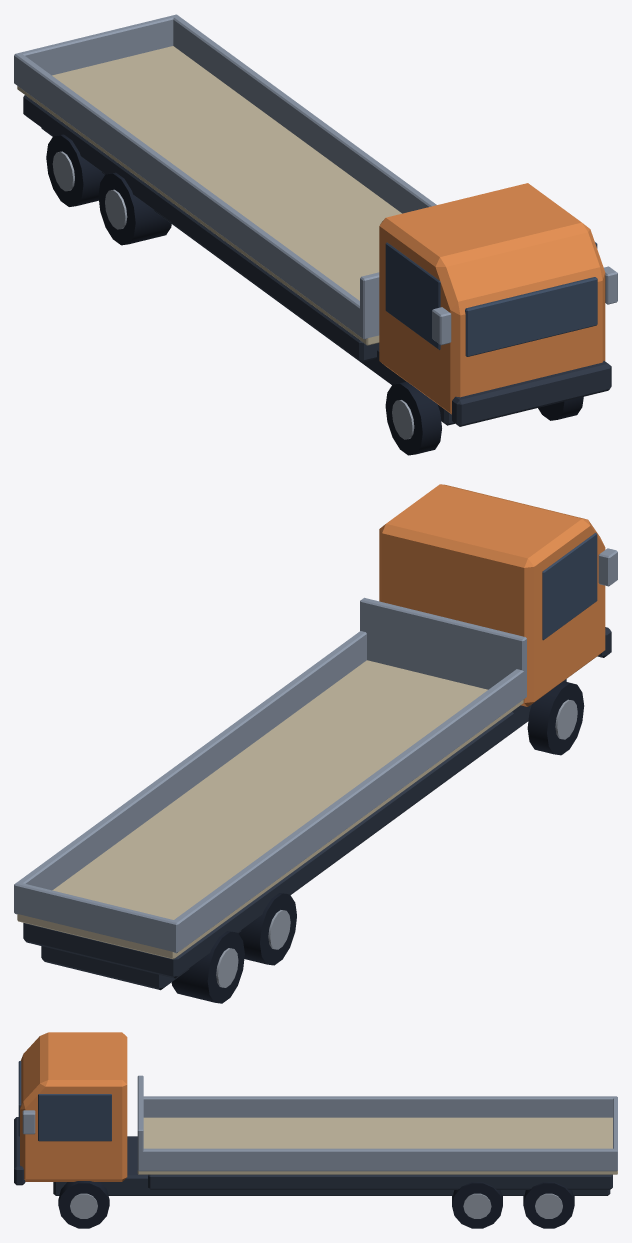
File: truck_10t_empty.glb
The picture shows the model from 3 angles, top to bottom: view 1: azimuth 30°, elevation 25°; view 2: azimuth 150°, elevation 25°; view 3: azimuth 270°, elevation 25°; orthographic projection. The views are drawn at different scales.
Visible parts, largest first — view 1: truck_10t_empty; view 2: truck_10t_empty; view 3: truck_10t_empty.
Part boxes in pixels (x1,y1,x2,y2): truck_10t_empty: (14, 14, 617, 455); truck_10t_empty: (14, 484, 617, 1003); truck_10t_empty: (14, 1032, 617, 1228).
Size of the model in its own units: 2.76 by 3.14 by 11.82.
